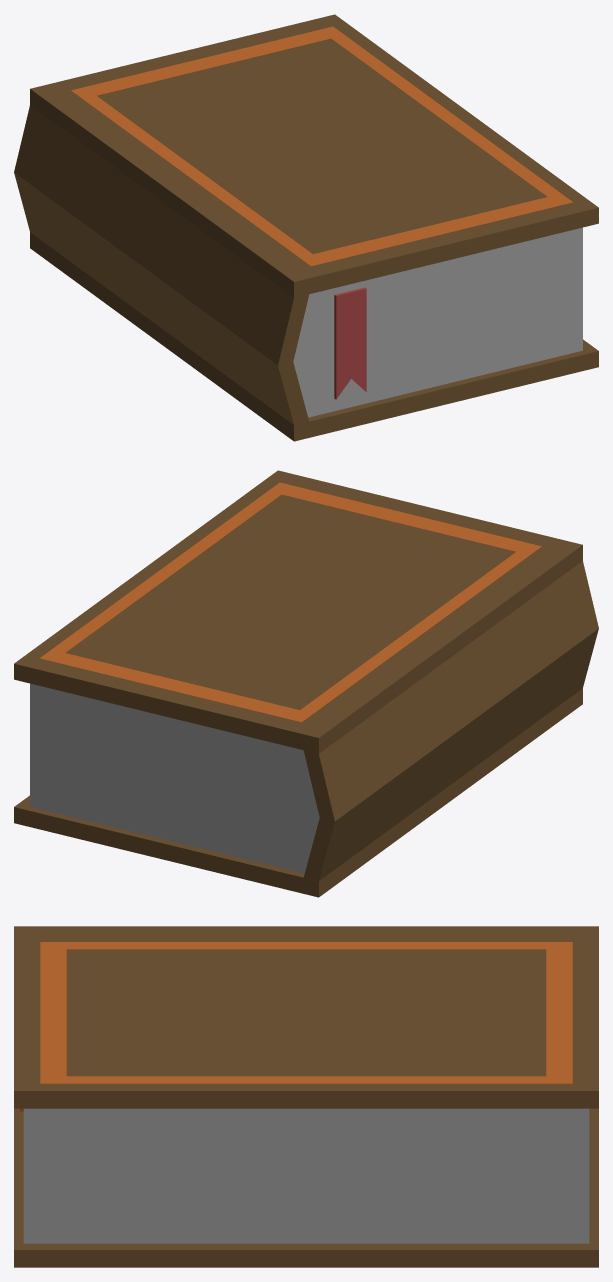
The model's file is Book_1_Brown.fbx.
3 views of the same model, one above another, from view 1: azimuth 30°, elevation 25°; view 2: azimuth 150°, elevation 25°; view 3: azimuth 270°, elevation 25° (orthographic). The views are drawn at different scales.
Visible parts, largest first — view 1: Book_1_Brown_Part_1, Book_1_Brown_Part_3, Book_1_Brown_Part_2, Book_1_Brown_Part_4; view 2: Book_1_Brown_Part_1, Book_1_Brown_Part_3, Book_1_Brown_Part_2; view 3: Book_1_Brown_Part_1, Book_1_Brown_Part_3, Book_1_Brown_Part_2.
Boxes of the visible parts, bbox=[...] form: Book_1_Brown_Part_1: bbox=[14, 14, 598, 441]; Book_1_Brown_Part_3: bbox=[293, 227, 582, 417]; Book_1_Brown_Part_2: bbox=[71, 26, 572, 266]; Book_1_Brown_Part_4: bbox=[334, 287, 366, 399]; Book_1_Brown_Part_1: bbox=[14, 470, 598, 897]; Book_1_Brown_Part_3: bbox=[30, 683, 319, 873]; Book_1_Brown_Part_2: bbox=[40, 482, 541, 722]; Book_1_Brown_Part_1: bbox=[14, 926, 598, 1267]; Book_1_Brown_Part_3: bbox=[23, 1108, 589, 1243]; Book_1_Brown_Part_2: bbox=[40, 942, 572, 1083].
Bounding box in the file's own units: 21.06 × 10 × 30.
